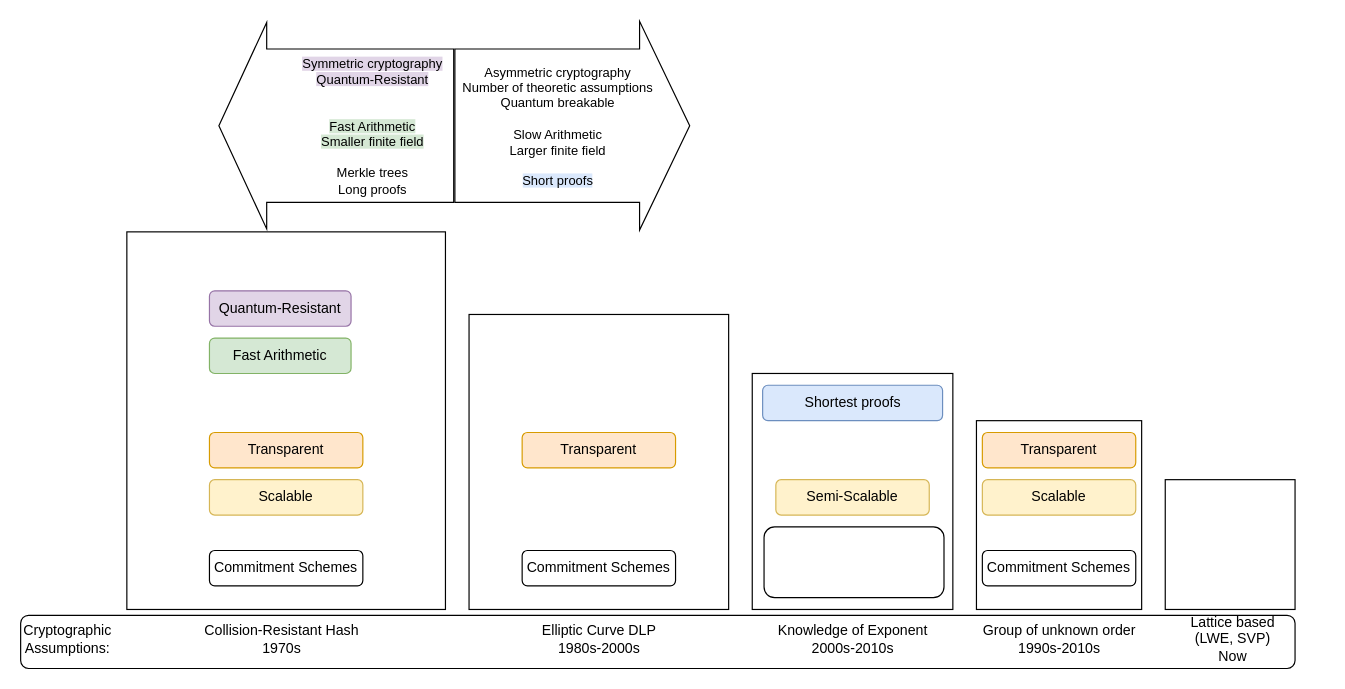
Image size: 1345x689. Some labels were removed from this diagram. Each missing label, with the centre of its shape:
"Hide queries to polynomials Require trusted setup Limited scalability" belongs at [853,562].
"No working protocol yet" belongs at [1229,543].
